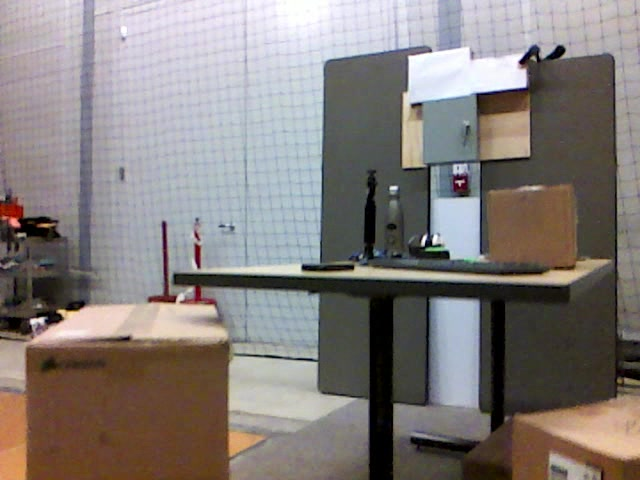box: (27, 304, 230, 480), (512, 392, 640, 480), (487, 185, 576, 265)
